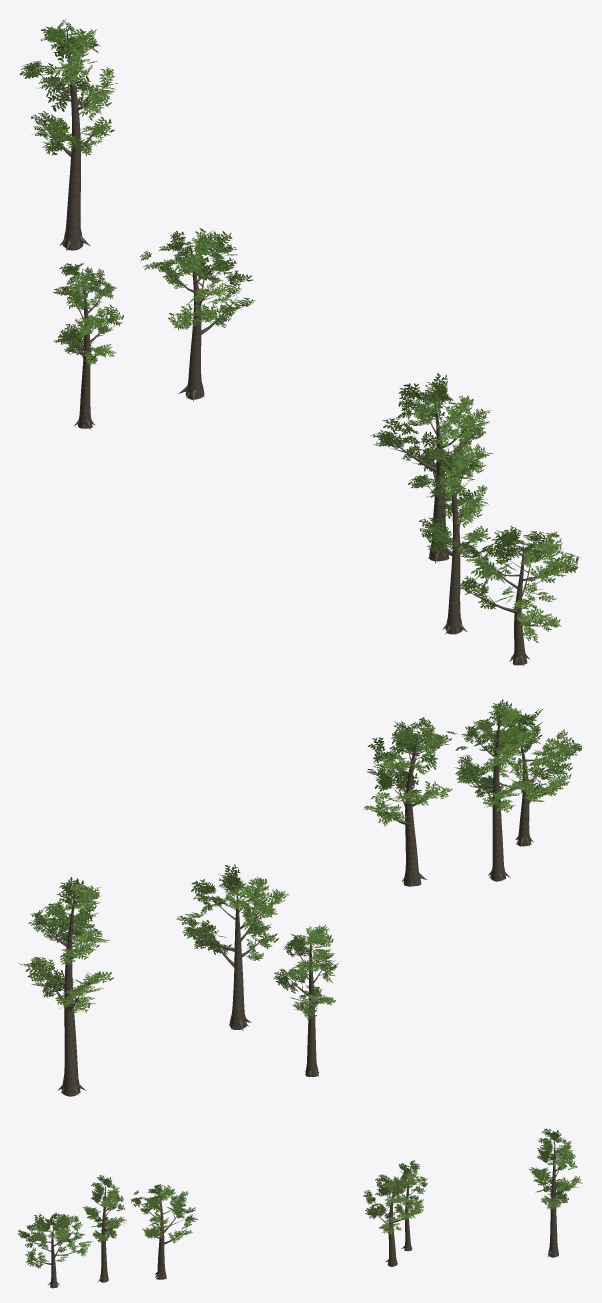
File: Canopy_08_14.glb
3 views of the same model, one above another, from view 1: azimuth 30°, elevation 25°; view 2: azimuth 150°, elevation 25°; view 3: azimuth 270°, elevation 25° (orthographic). The views are drawn at different scales.
Parts seen in each view (by area): view 1: Canopy_08_14; view 2: Canopy_08_14; view 3: Canopy_08_14.
Part boxes in pixels (x1,y1,x2,y2): Canopy_08_14: (20, 19, 581, 666); Canopy_08_14: (18, 699, 582, 1096); Canopy_08_14: (17, 1128, 582, 1288).
Bounding box in the file's own units: 23.03 × 31.13 × 101.
Materials: 2 (2 with a texture image).
